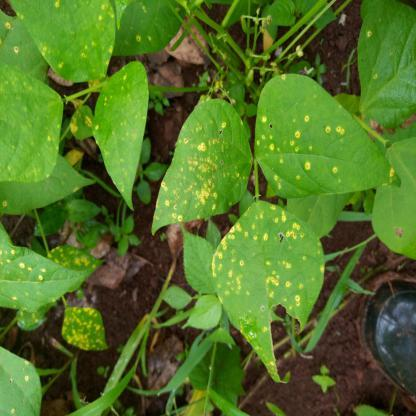Beans_Rust: (213, 200, 327, 385), (255, 73, 399, 196), (150, 83, 244, 232), (11, 3, 118, 88), (98, 61, 150, 202), (0, 63, 59, 182), (360, 0, 416, 118), (2, 247, 91, 308), (111, 0, 187, 56), (0, 348, 43, 416), (61, 308, 110, 349), (48, 248, 109, 278), (67, 105, 98, 139)
